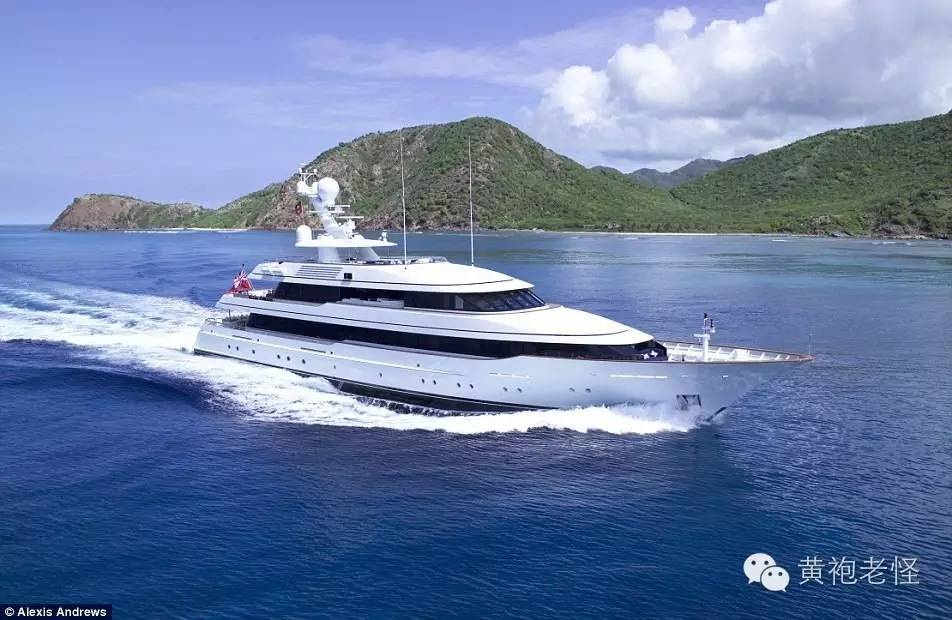yacht: (188, 170, 811, 441)
